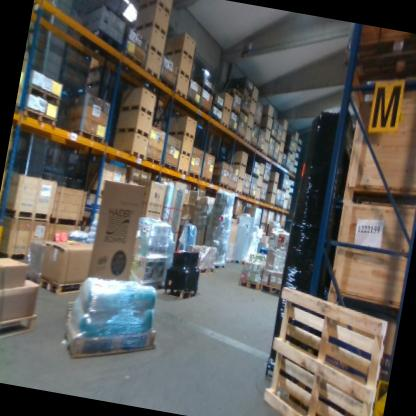pallet: (258, 284, 394, 416), (61, 316, 158, 372), (0, 307, 39, 355), (36, 272, 84, 300), (22, 81, 63, 109), (18, 104, 59, 128), (67, 125, 105, 148), (131, 16, 168, 39), (161, 279, 199, 301), (161, 42, 196, 64), (119, 49, 147, 73), (136, 0, 172, 18), (117, 101, 155, 118), (114, 123, 151, 140), (257, 280, 280, 299), (167, 126, 195, 141), (22, 268, 40, 289), (143, 41, 164, 59), (237, 276, 261, 291), (140, 64, 160, 82), (193, 261, 215, 277), (173, 65, 191, 82), (121, 149, 146, 161), (223, 85, 244, 99), (185, 95, 201, 112), (144, 154, 162, 166), (173, 87, 187, 102), (210, 179, 229, 190), (187, 169, 202, 180), (162, 161, 178, 171), (198, 106, 211, 118), (230, 160, 247, 169), (178, 148, 192, 158), (199, 174, 212, 184), (177, 166, 189, 176), (234, 130, 246, 140), (258, 124, 272, 132), (226, 124, 237, 134), (247, 139, 258, 149), (222, 104, 232, 114), (229, 109, 239, 119), (245, 121, 254, 132), (218, 121, 228, 129), (250, 96, 258, 106), (227, 185, 236, 193), (248, 109, 256, 118), (234, 188, 242, 196), (256, 145, 264, 153), (241, 191, 250, 198), (266, 190, 276, 196), (243, 138, 250, 146), (247, 193, 255, 200), (267, 179, 278, 184), (262, 137, 269, 144), (236, 175, 244, 181), (265, 201, 274, 206), (271, 157, 278, 163), (258, 197, 265, 203), (261, 179, 269, 184), (280, 187, 286, 193), (255, 184, 262, 189), (262, 150, 267, 157), (266, 154, 273, 159), (253, 196, 259, 201), (258, 172, 264, 177), (281, 128, 287, 133), (280, 163, 285, 169), (273, 202, 279, 207), (277, 205, 283, 210), (278, 150, 283, 155), (280, 139, 285, 144), (291, 149, 296, 154), (282, 206, 287, 211), (283, 196, 288, 201), (285, 186, 290, 191), (285, 207, 290, 212), (276, 161, 281, 165), (284, 167, 289, 171), (288, 170, 293, 174), (293, 139, 298, 143), (290, 160, 295, 163)
